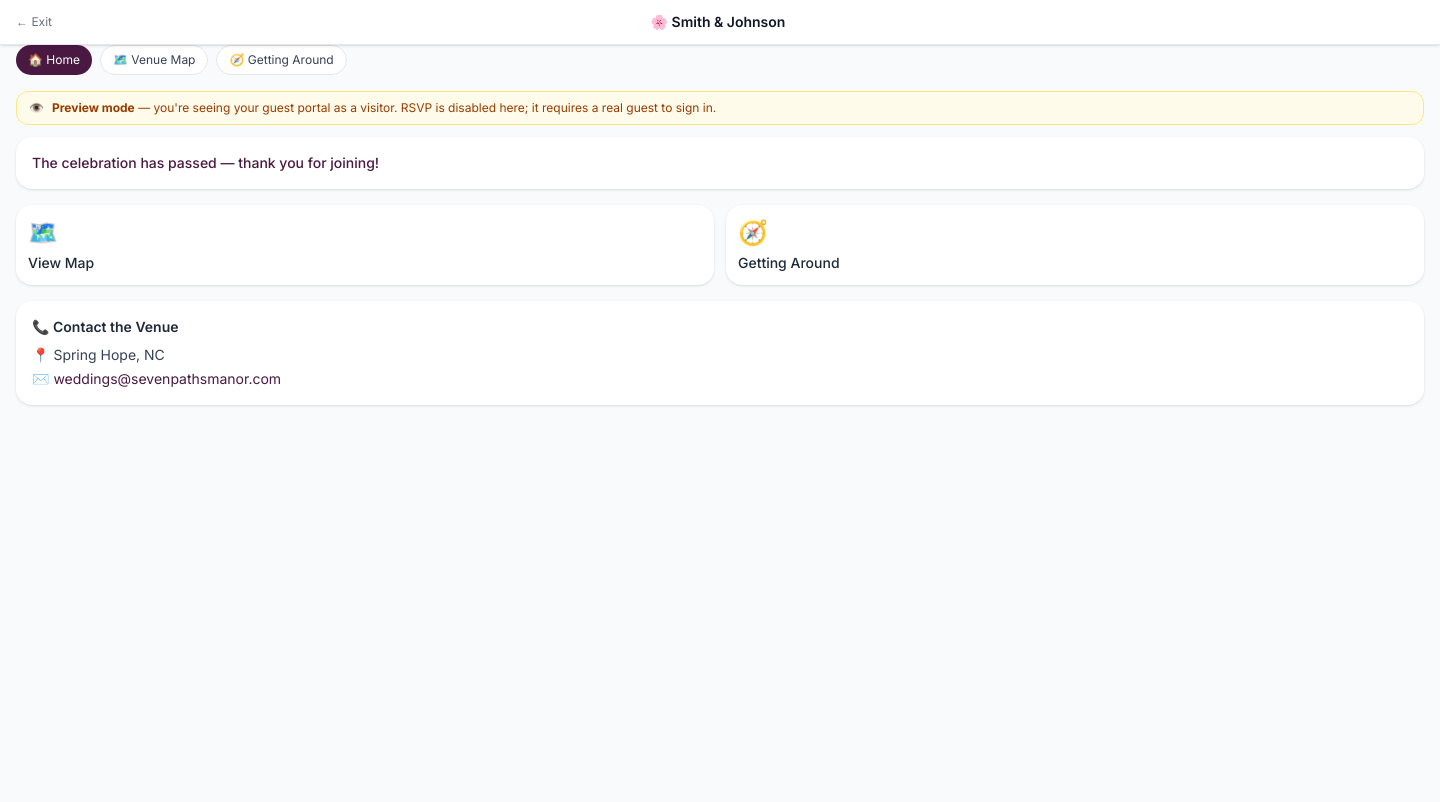
Test case: GuestPortal preview mode › scopes wayfinding to guest-visible event spaces and never invents a route
expect the text "Preview mode" is shown: met, box [52,100,135,115]
Click the tab "🧭 Getting Around" at (282, 60), box [216,45,347,75]
(page scrolled)
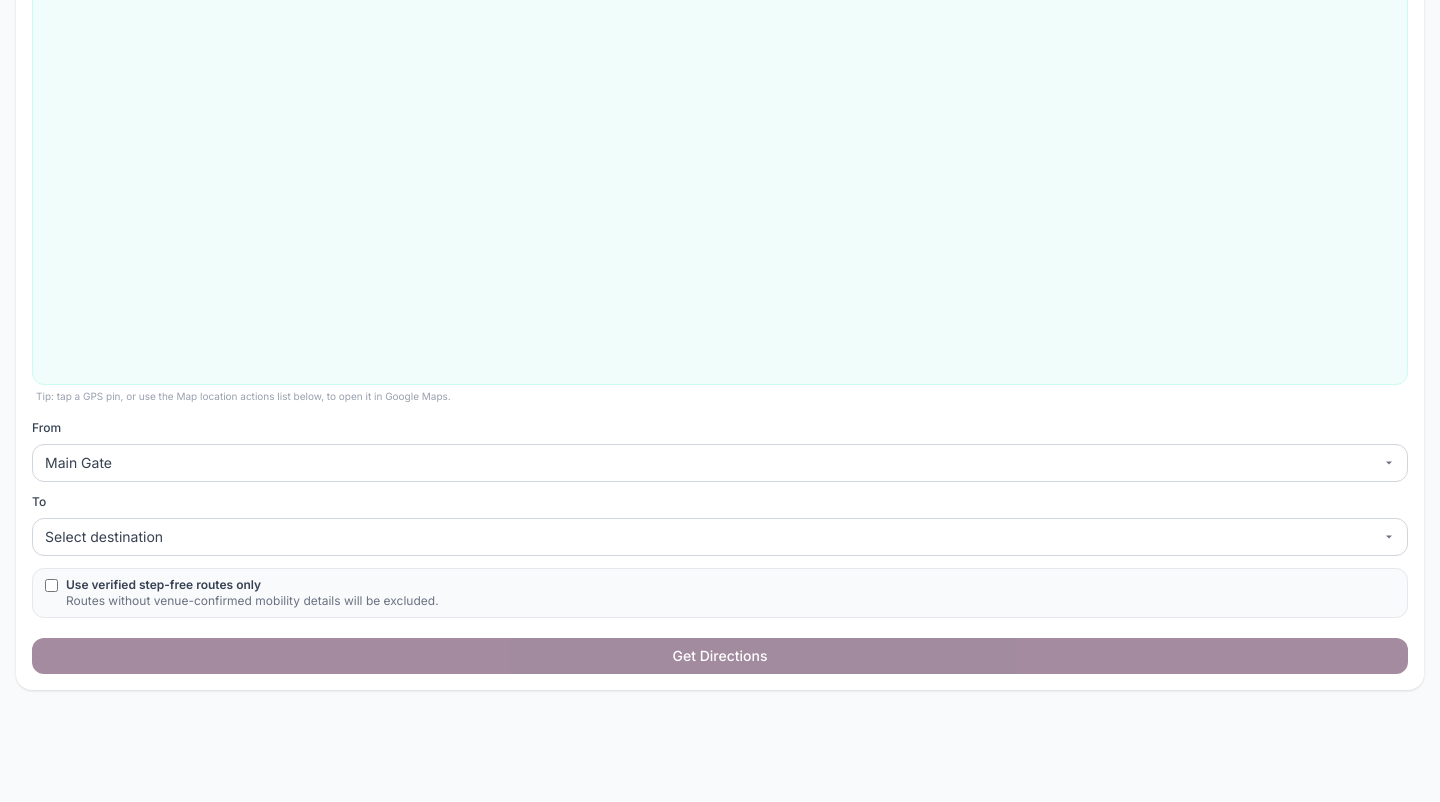
Select "Ceremony Garden" in the dropdown named "Directions destination" at (720, 537), box [32,518,1408,556]
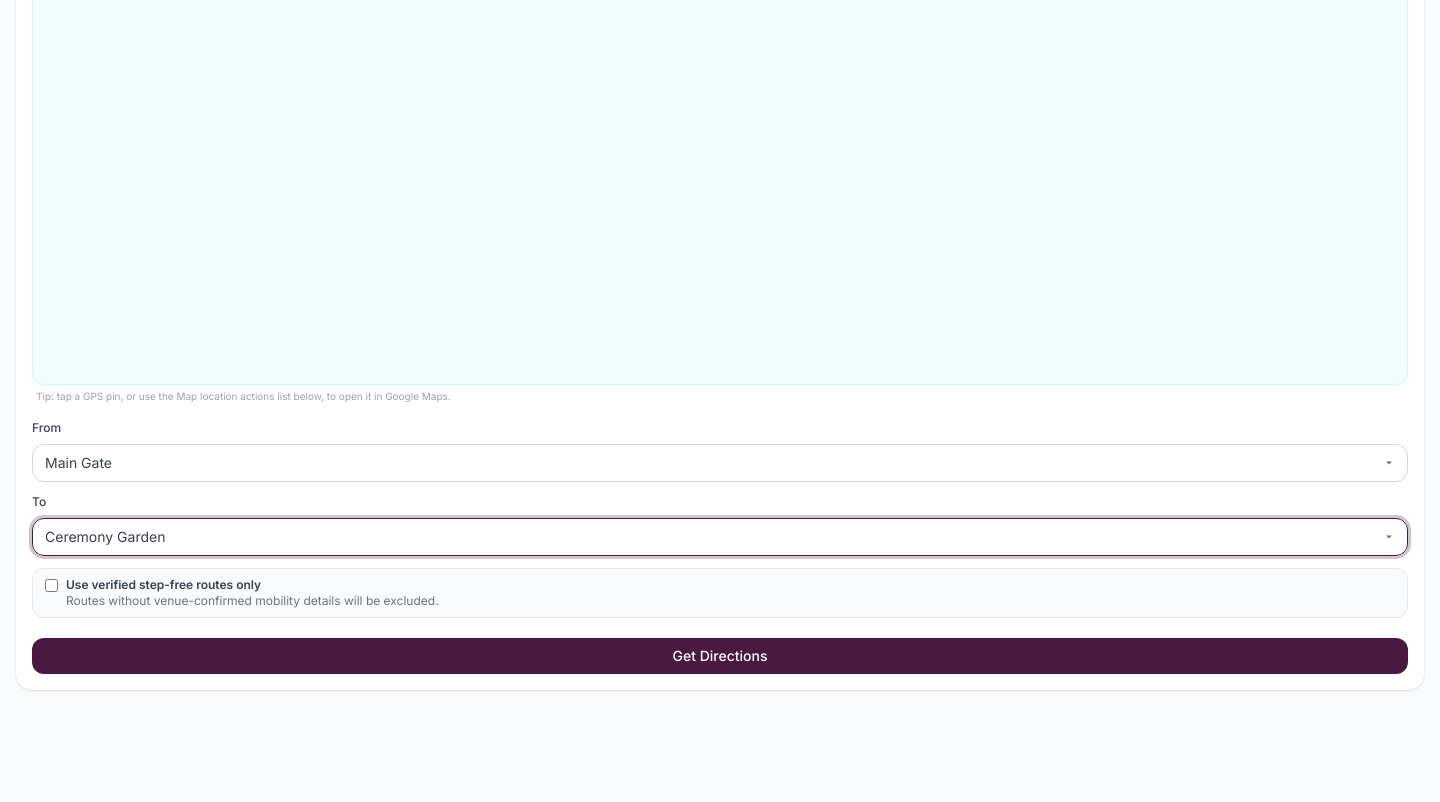
Click the button "Get Directions" at (720, 656), box [32,638,1408,674]
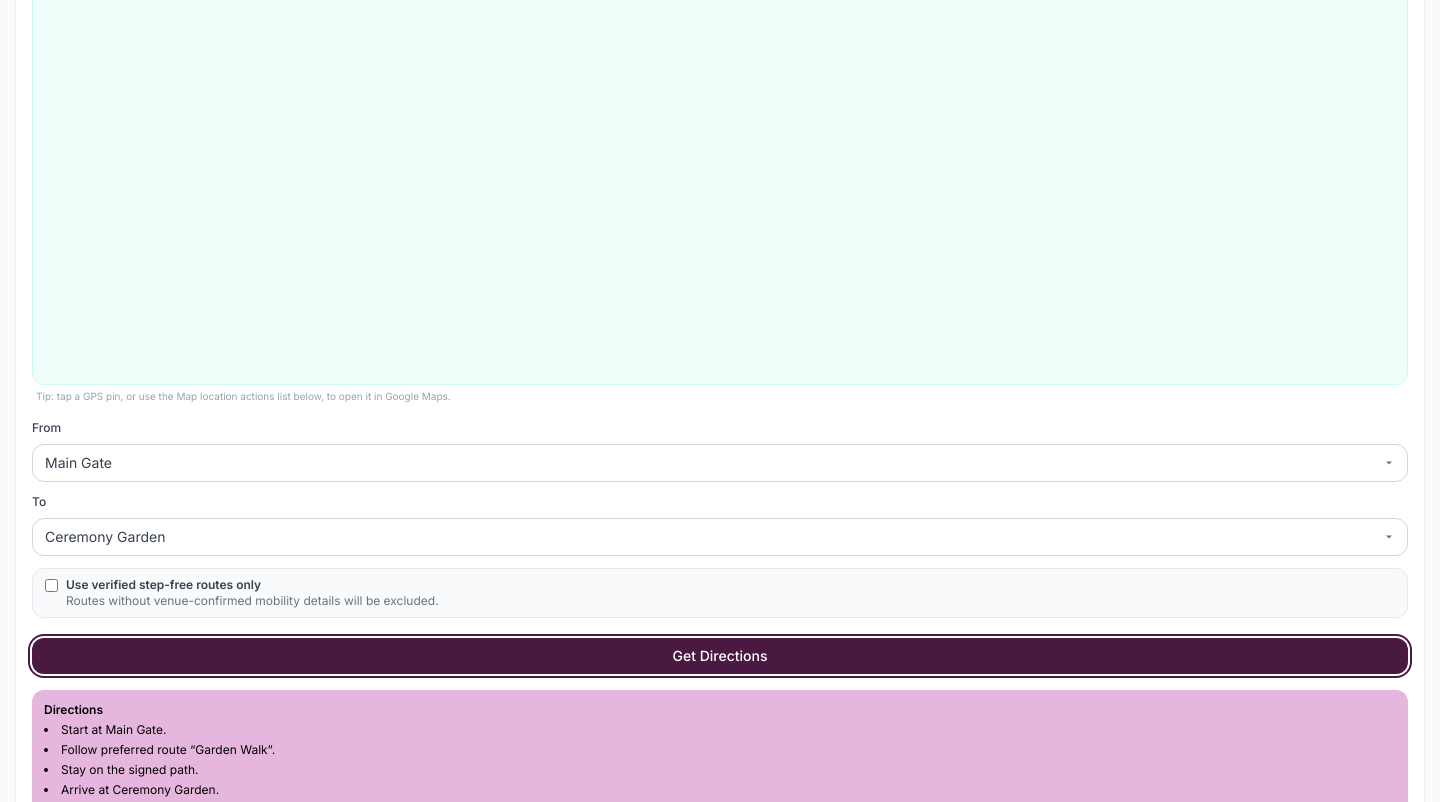
expect the list item "Follow preferred route “Garden Walk”." is shown: met, box [61,742,275,757]
expect the list item "Stay on the signed path." is shown: met, box [61,762,198,777]
Click the checkbox labelled "Use verified step-free routes only" at (52, 585), box [45,579,58,592]
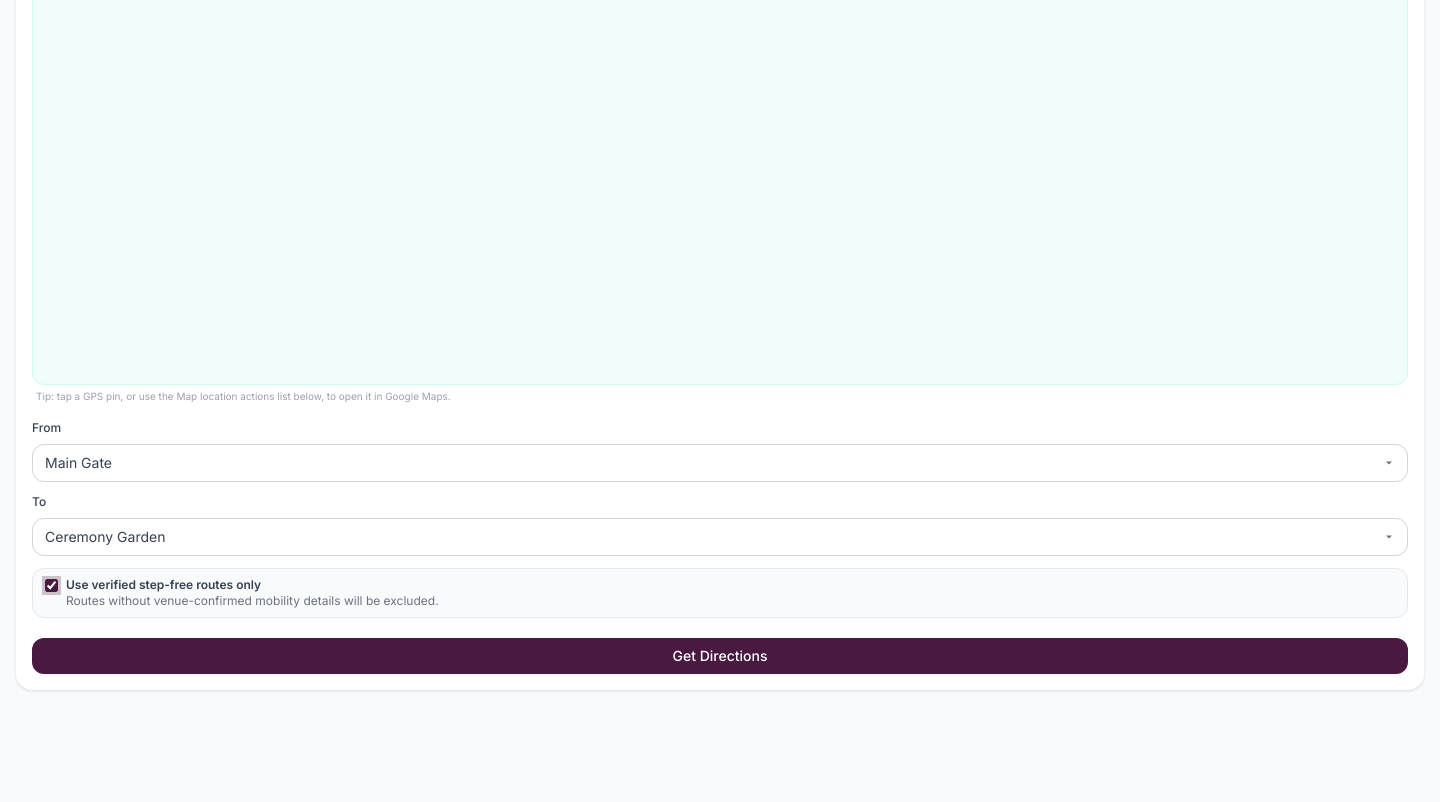
Click the button "Get Directions" at (720, 656), box [32,638,1408,674]
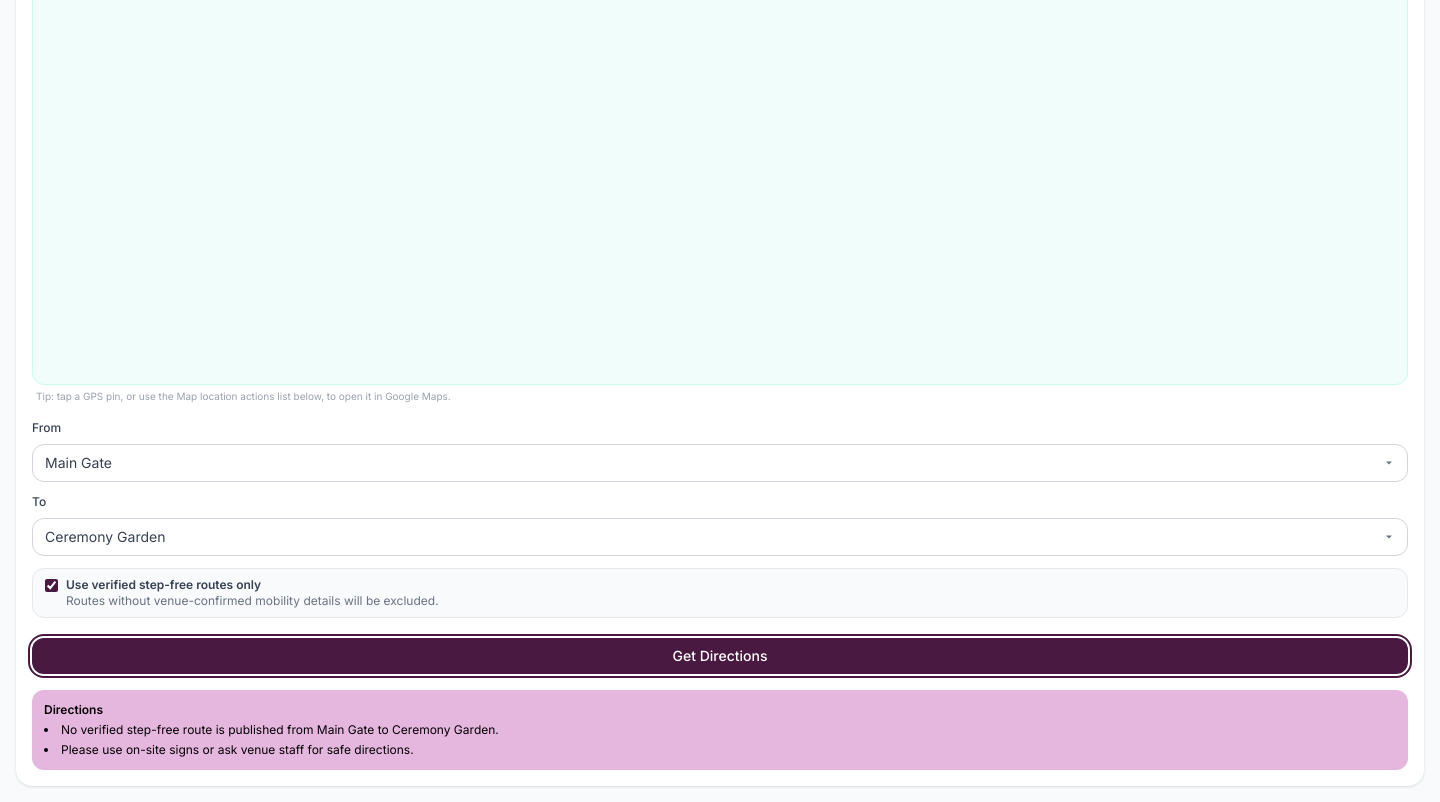
expect the list item "No verified step-free route is published" is shown: met, box [61,722,499,737]
